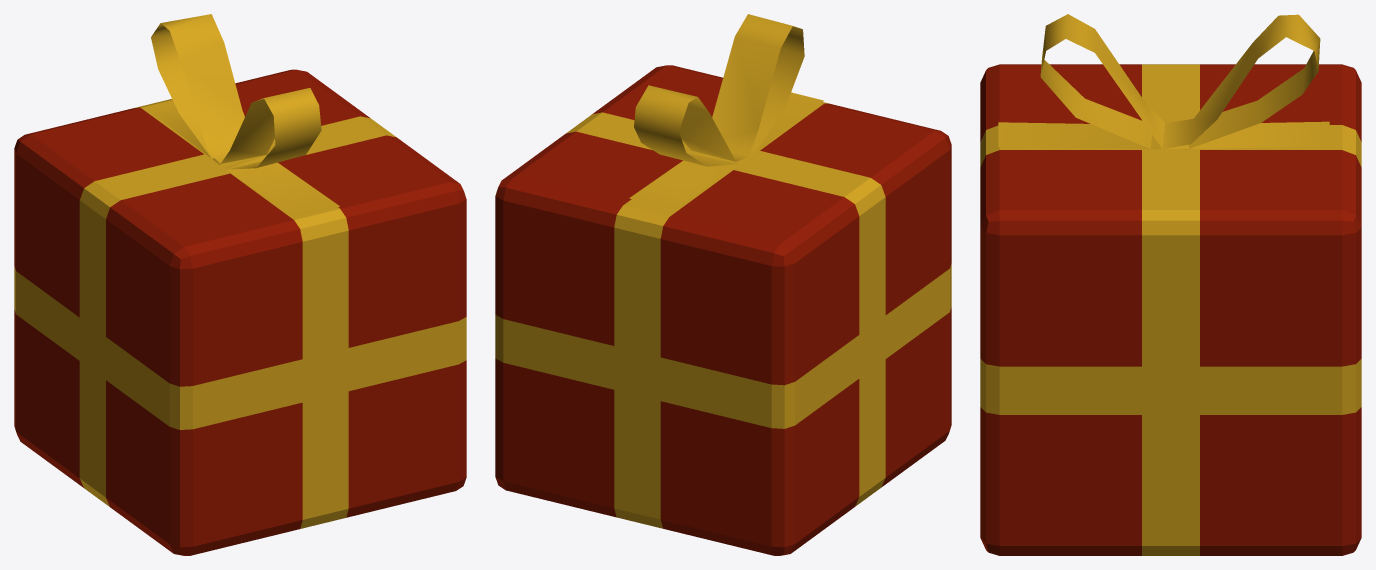
Rendered from present.fbx.
3 renders of one model, left to right at view 1: azimuth 30°, elevation 25°; view 2: azimuth 150°, elevation 25°; view 3: azimuth 270°, elevation 25°, orthographic. The views are drawn at different scales.
Parts seen in each view (by area): view 1: Cube, BézierCurve; view 2: Cube, BézierCurve; view 3: Cube, BézierCurve.
Part boxes in pixels (x1,y1,x2,y2): Cube: [14, 69, 466, 555]; BézierCurve: [147, 14, 339, 217]; Cube: [495, 65, 951, 555]; BézierCurve: [629, 14, 823, 209]; Cube: [980, 64, 1361, 555]; BézierCurve: [998, 14, 1329, 149].
Bounding box in the file's own units: 200 × 265 × 200.
